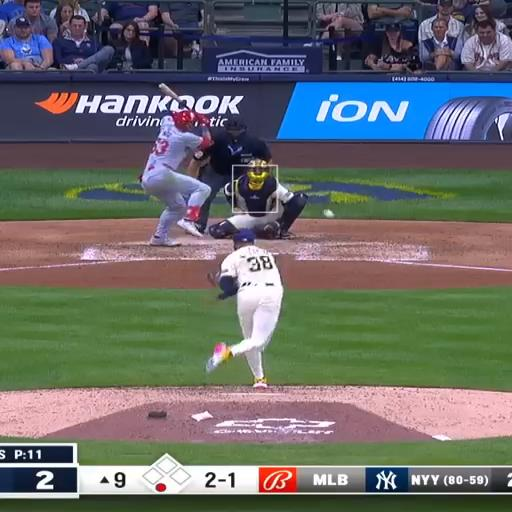bat: (158, 83, 183, 103)
